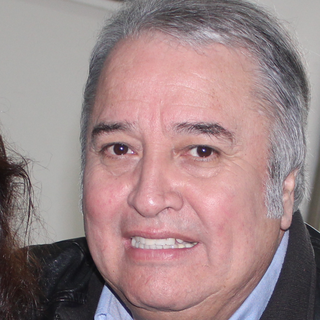eye: (180, 140, 226, 164), (95, 139, 141, 163)
